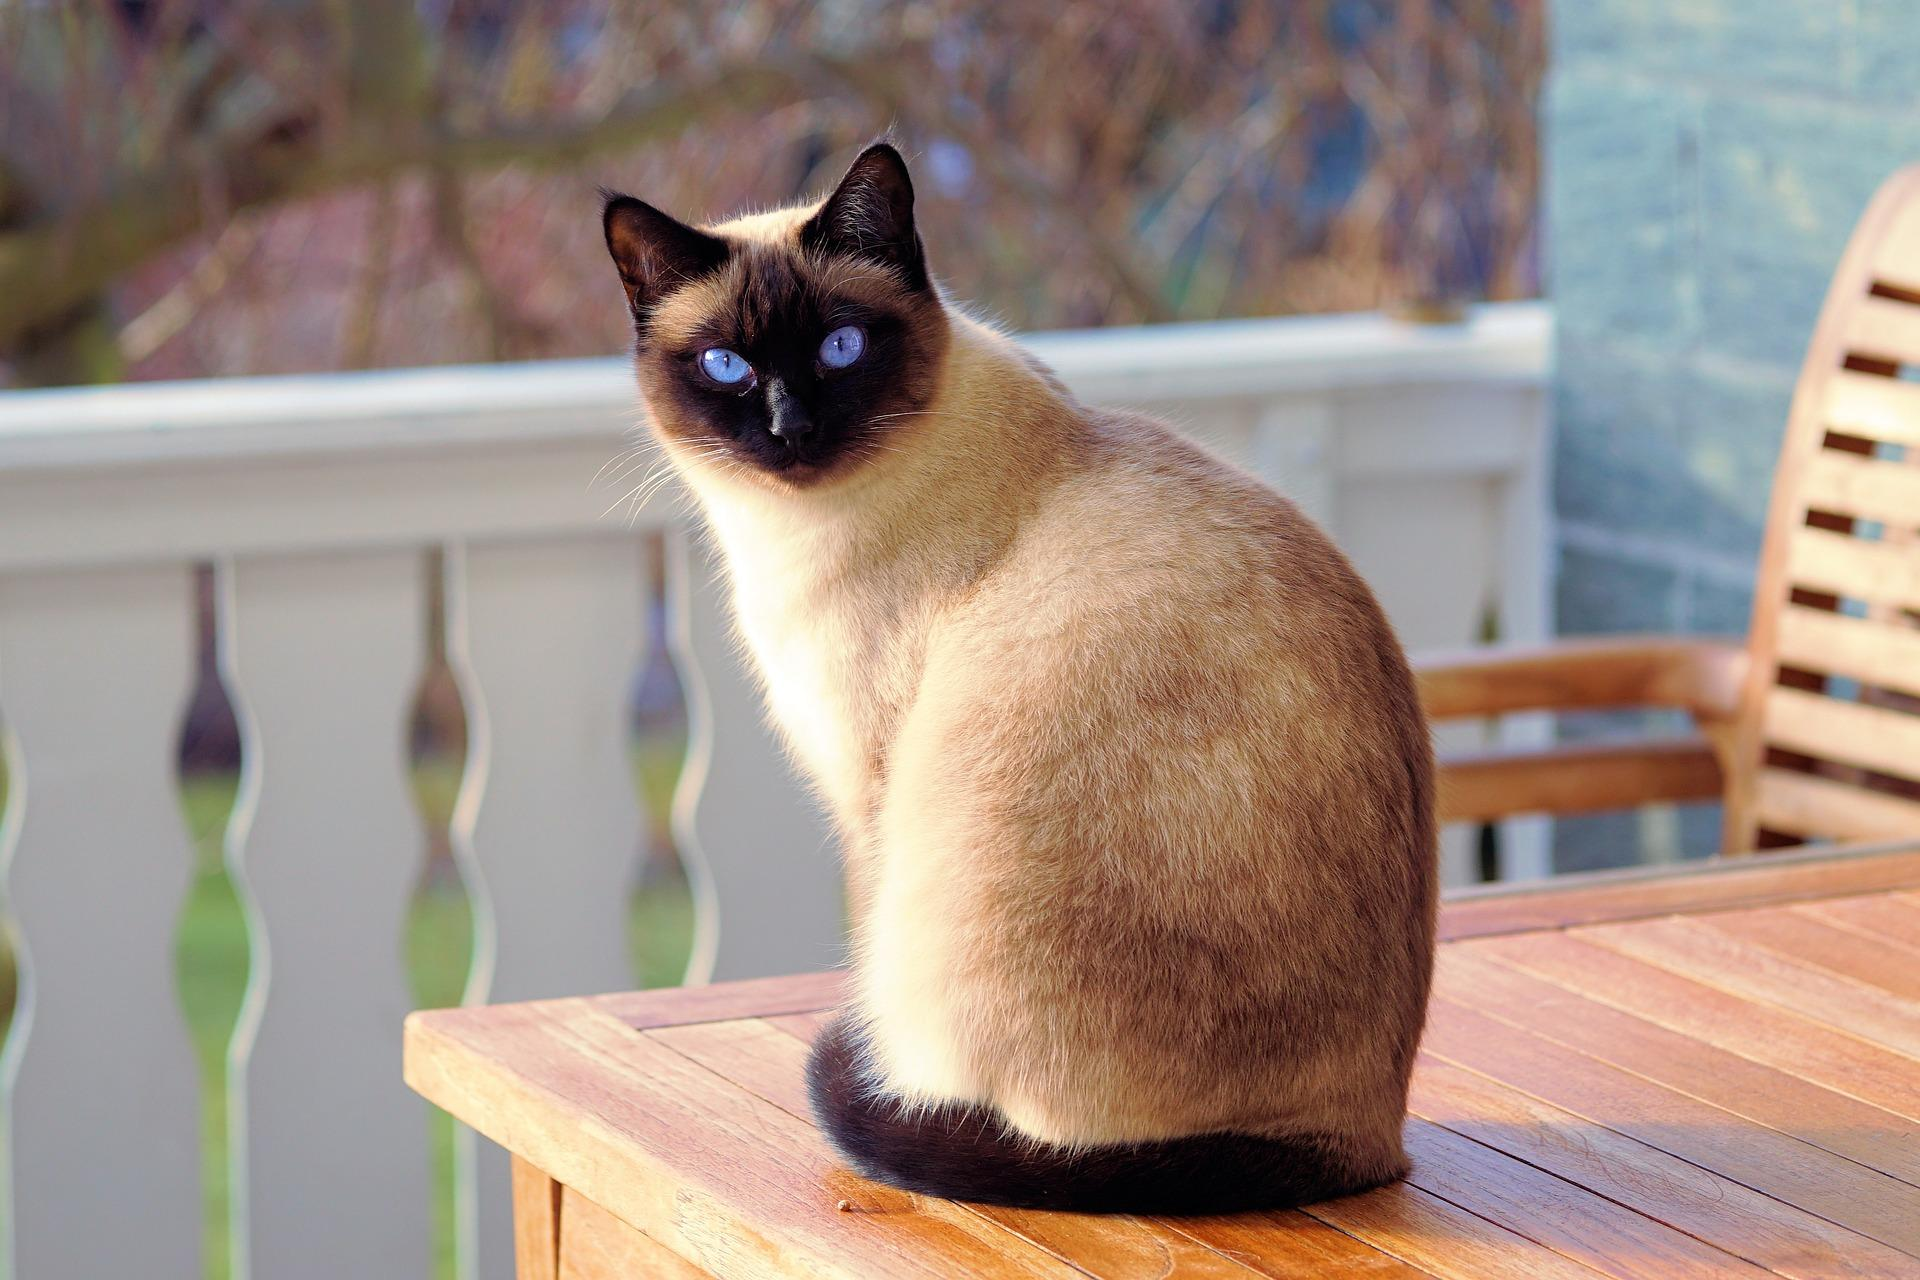siamese: (579, 133, 979, 523)
